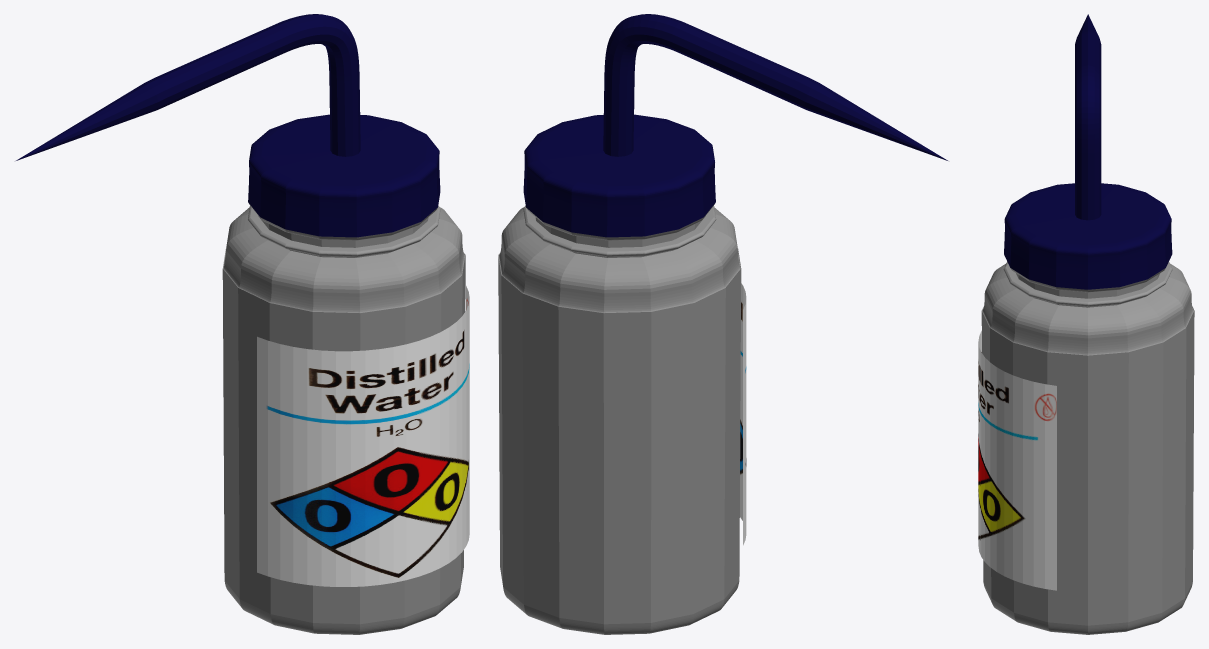
File: Distilled water.dae
3 views of the same model, side by side, from view 1: azimuth 30°, elevation 25°; view 2: azimuth 150°, elevation 25°; view 3: azimuth 270°, elevation 25° (orthographic). The views are drawn at different scales.
Visible parts, largest first — view 1: Line001, Plane002, Line002; view 2: Line001, Line002, Plane002; view 3: Line001, Plane002, Line002.
Part boxes in pixels (box(x1,y1,x2,y2)): Line001: box(222, 114, 465, 634); Plane002: box(257, 286, 469, 586); Line002: box(16, 14, 360, 160); Line001: box(498, 114, 741, 634); Line002: box(603, 14, 947, 160); Plane002: box(740, 283, 746, 545); Line001: box(981, 183, 1194, 634); Plane002: box(978, 330, 1056, 590); Line002: box(1075, 14, 1101, 220).
Size of the model in its own units: 16.64 by 21.46 by 8.22.
